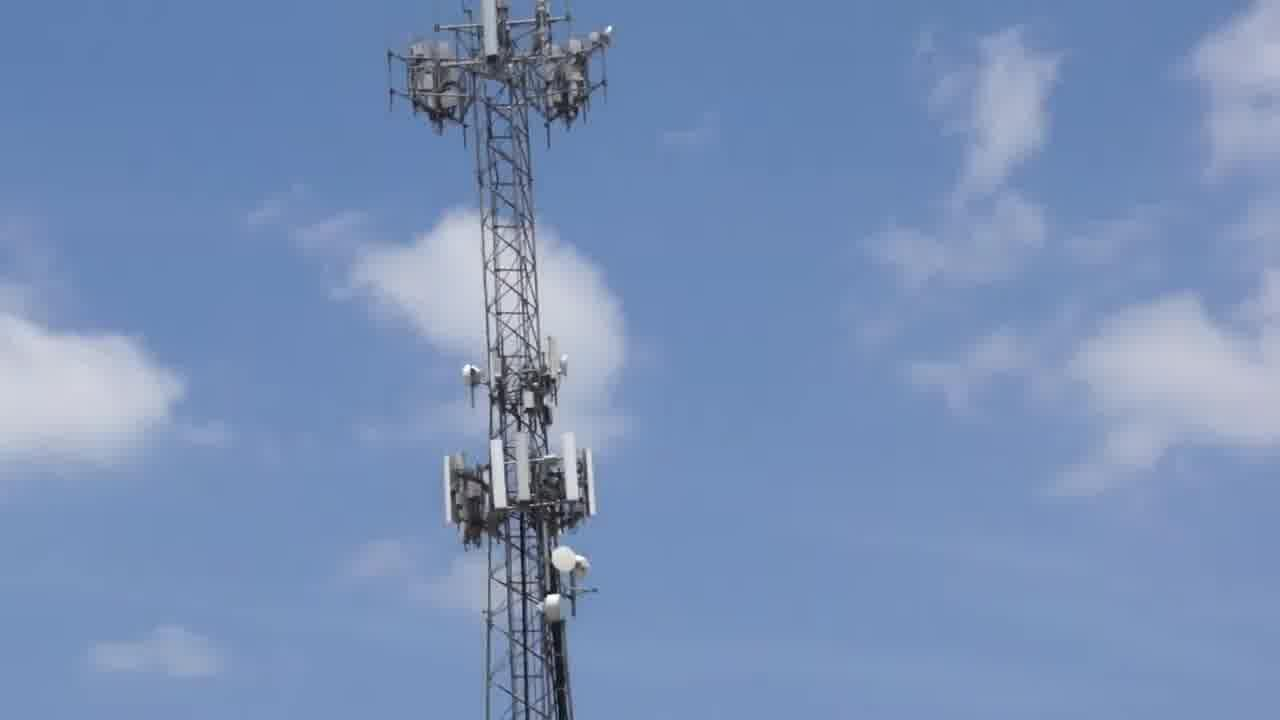Microwave Antenna: (533, 591, 567, 630), (545, 541, 576, 575), (457, 357, 482, 394), (563, 557, 601, 580), (559, 353, 577, 388)
antenna: (432, 447, 457, 536), (482, 431, 507, 516), (510, 424, 534, 512), (560, 424, 583, 511), (581, 447, 598, 526), (542, 325, 560, 376)
